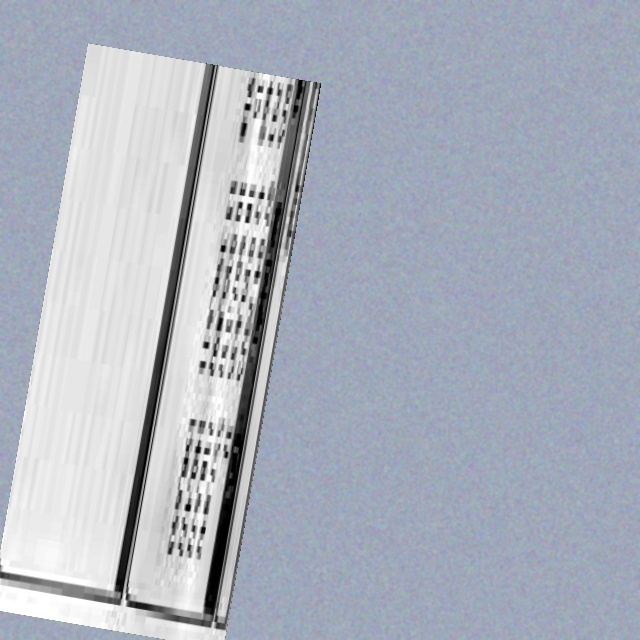electricity-bill: (0, 43, 321, 640)
